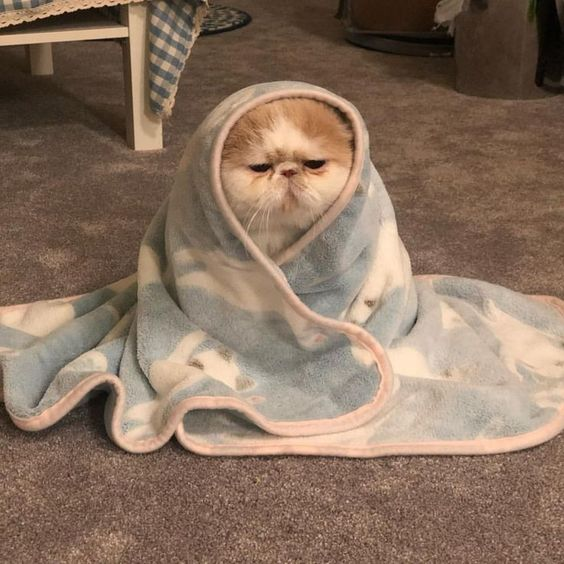cat: (221, 99, 353, 256)
